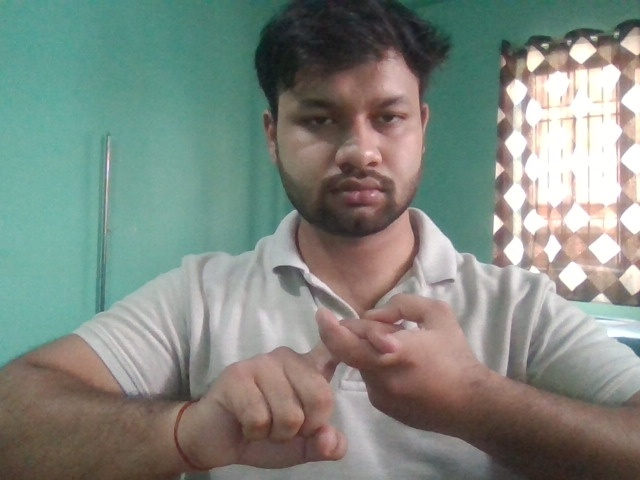Friend: (185, 285, 490, 472)
